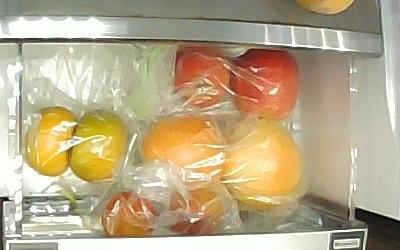apple_vinyl: (231, 49, 299, 119), (172, 46, 231, 108)
grapefruit_vinyl: (223, 118, 302, 213), (141, 115, 225, 188)
persimmon_vinyl: (68, 109, 129, 183), (24, 106, 78, 176)
prune_vinyl: (169, 188, 226, 236), (102, 190, 156, 236)
